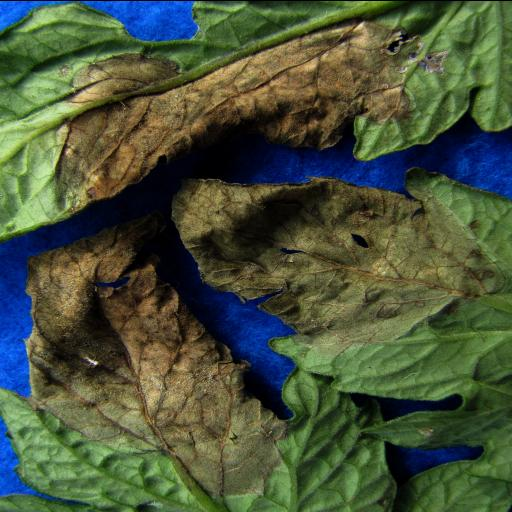disease_tomato: (0, 0, 512, 236), (2, 228, 394, 512), (168, 152, 510, 452)
